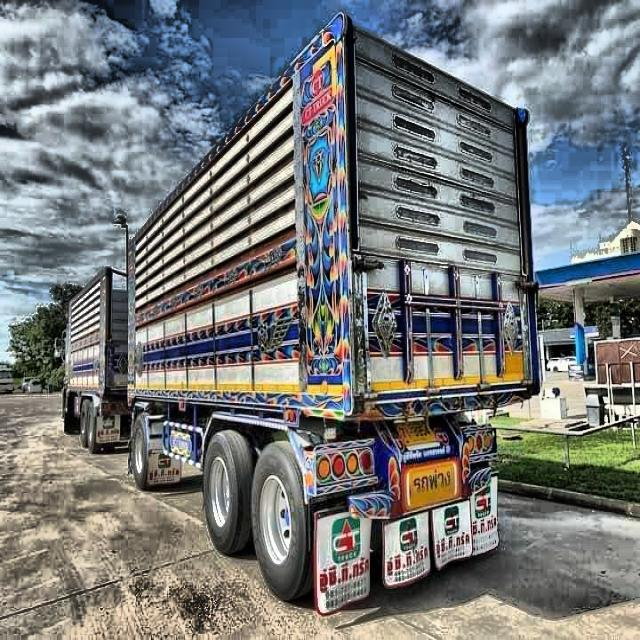trailer: (59, 20, 546, 605)
